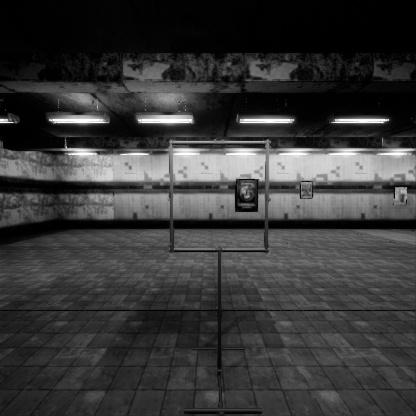gate: (169, 162, 280, 275)
